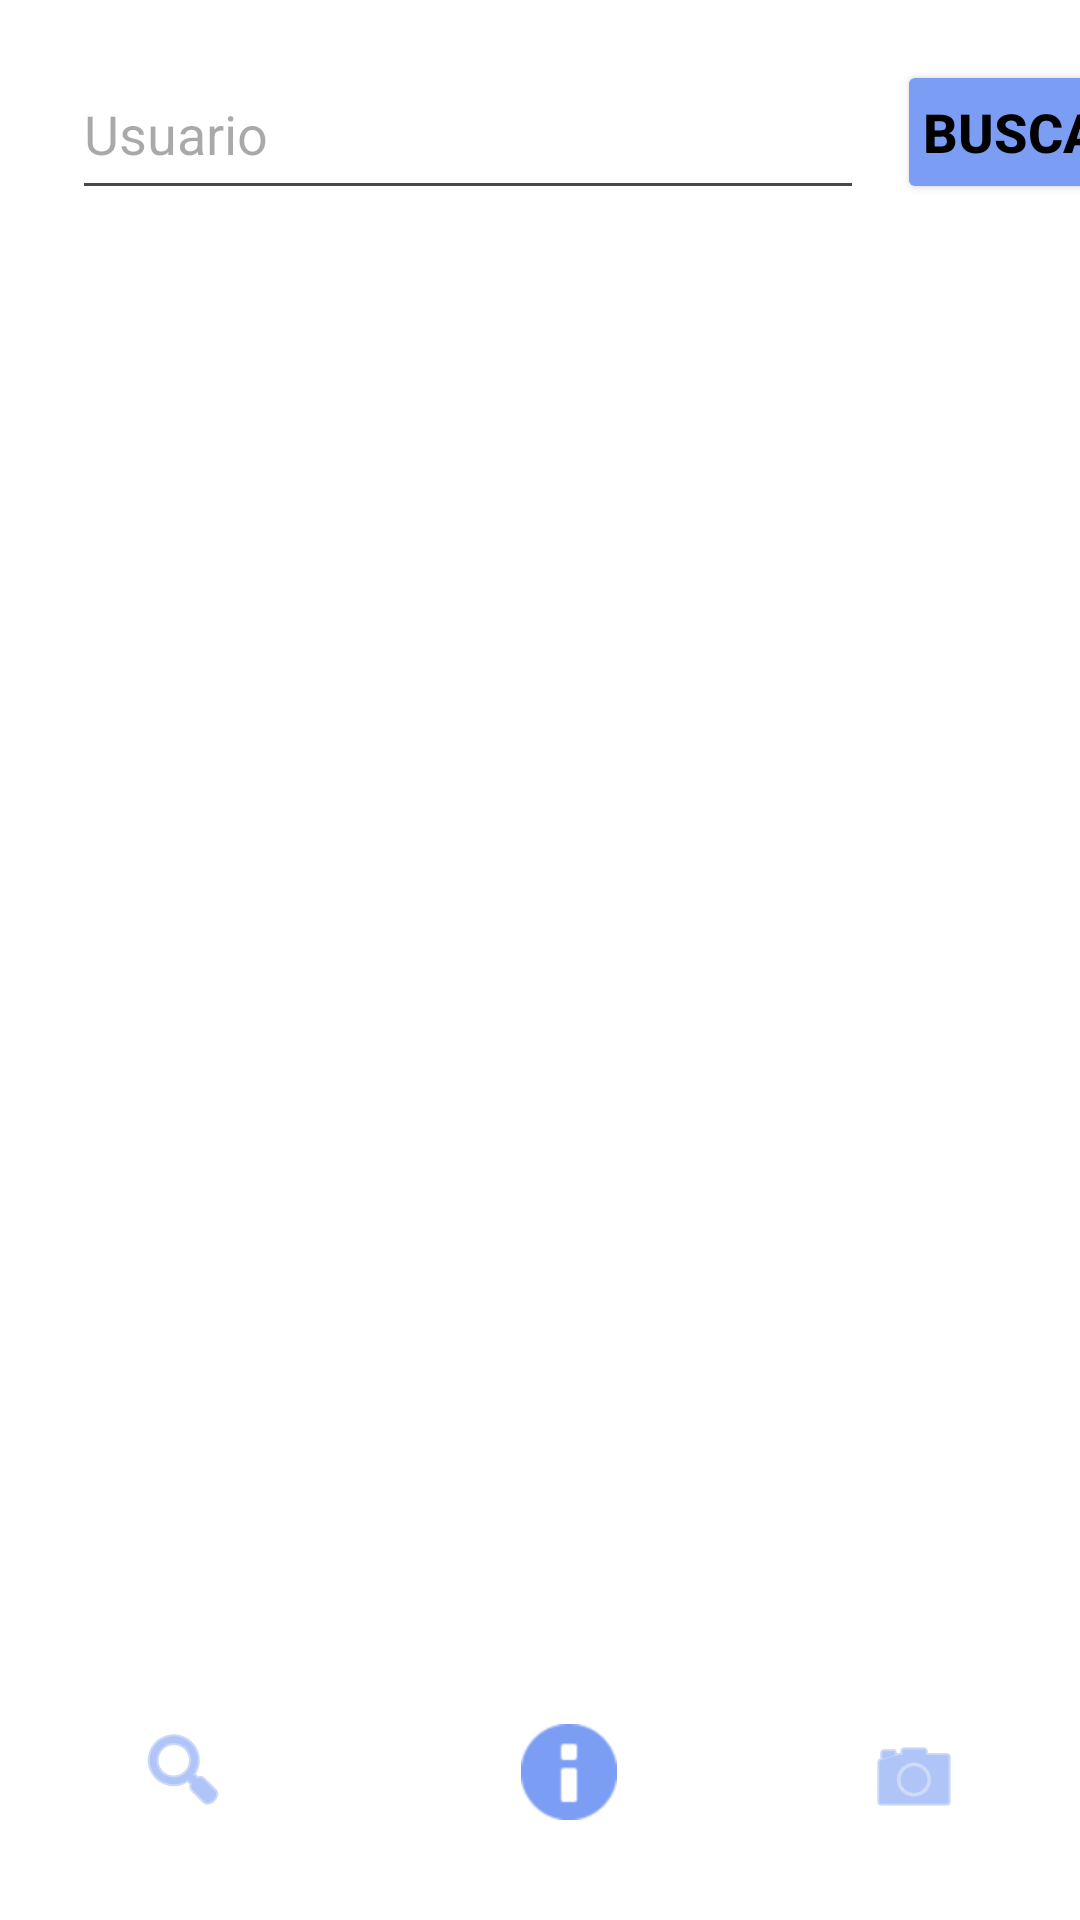

Where icons sit on this 1080 × 1920 app screen, as (x1, y1, x2, y2):
Buscar: (148, 1734, 218, 1805)
Gallery: (877, 1747, 951, 1806)
